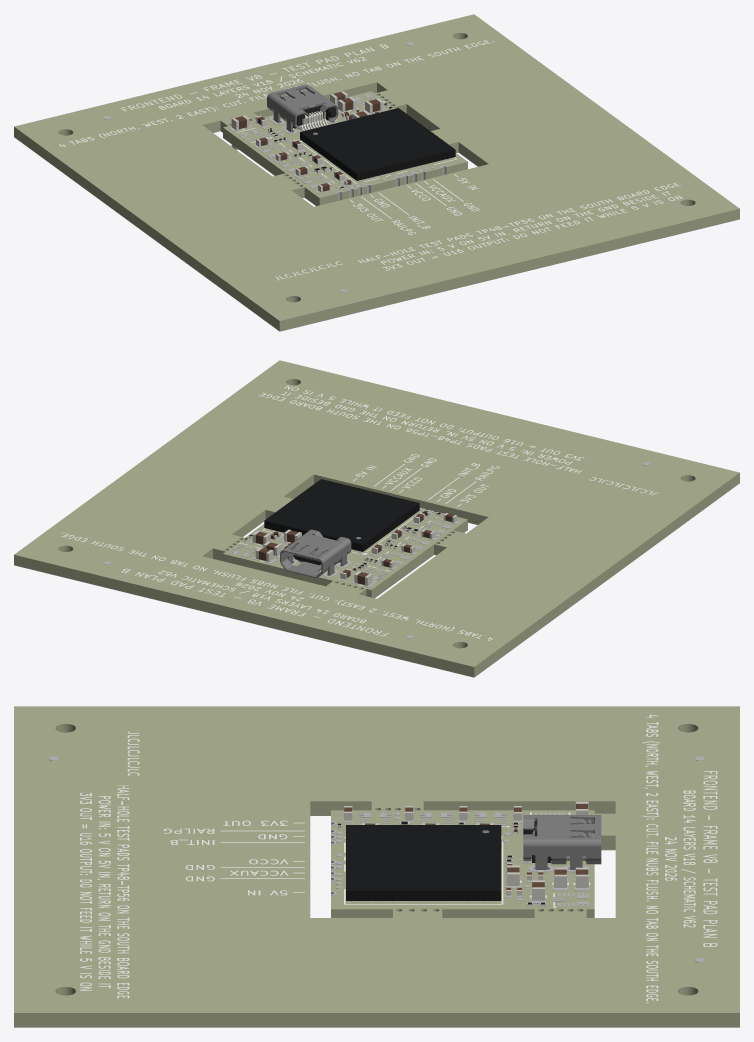
The model's file is frontend-v18-frame-v8.glb.
3 renders of one model, top to bottom at view 1: azimuth 30°, elevation 25°; view 2: azimuth 150°, elevation 25°; view 3: azimuth 270°, elevation 25°, orthographic. The views are drawn at different scales.
Parts seen in each view (by area): view 1: =>[0:1:1:382], CSG325_Body, =>[0:1:1:378], =>[0:1:1:343], =>[0:1:1:377], =>[0:1:1:381]; view 2: =>[0:1:1:382], CSG325_Body, =>[0:1:1:378], =>[0:1:1:343], =>[0:1:1:377], =>[0:1:1:381]; view 3: =>[0:1:1:382], CSG325_Body, =>[0:1:1:378], =>[0:1:1:343], =>[0:1:1:377], =>[0:1:1:381].
Part boxes in pixels (x1,y1,x2,y2): =>[0:1:1:382]: (14,14,739,331); CSG325_Body: (300,108,455,180); =>[0:1:1:378]: (59,40,682,280); =>[0:1:1:343]: (267,84,338,132); =>[0:1:1:377]: (103,42,449,292); =>[0:1:1:381]: (14,131,739,331); =>[0:1:1:382]: (14,360,739,677); CSG325_Body: (264,479,419,551); =>[0:1:1:378]: (61,385,658,640); =>[0:1:1:343]: (280,529,351,578); =>[0:1:1:377]: (103,462,650,638); =>[0:1:1:381]: (14,483,739,677); =>[0:1:1:382]: (14,706,739,1027); CSG325_Body: (346,825,501,900); =>[0:1:1:378]: (80,714,717,1003); =>[0:1:1:343]: (523,815,601,869); =>[0:1:1:377]: (48,756,705,962); =>[0:1:1:381]: (14,815,739,1027).
Size of the model in its own units: 0.07 by 0.00582 by 0.07.
